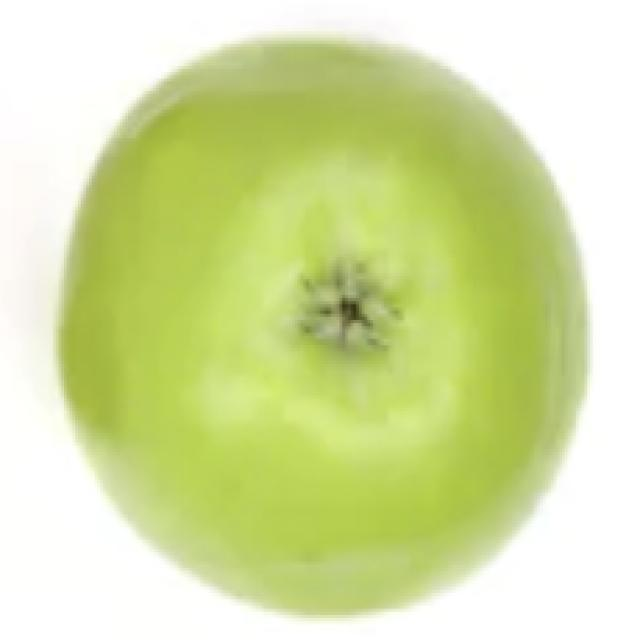Fresh Apple: (124, 68, 564, 607)
